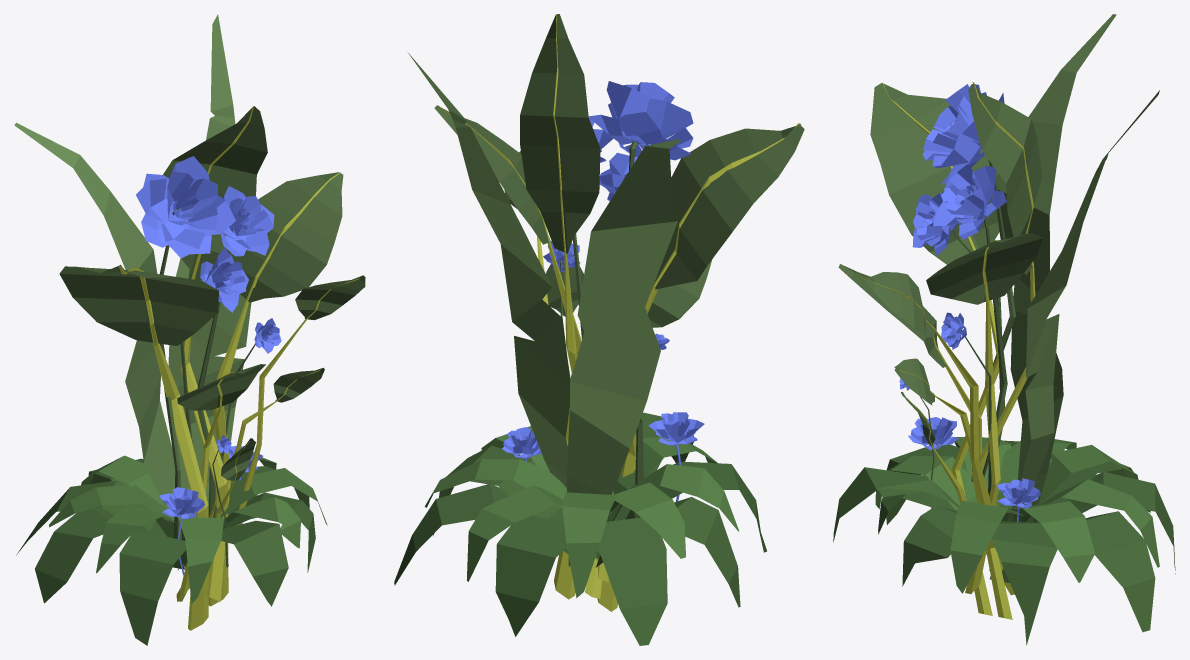
File: MBJ_PlantPack01_Plant01v001.fbx
3 views of the same model, side by side, from view 1: azimuth 30°, elevation 25°; view 2: azimuth 150°, elevation 25°; view 3: azimuth 270°, elevation 25° (orthographic). The views are drawn at different scales.
Parts seen in each view (by area): view 1: Flower01Plant; view 2: Flower01Plant; view 3: Flower01Plant.
Part boxes in pixels (bbox=[...]): Flower01Plant: bbox=[14, 14, 365, 645]; Flower01Plant: bbox=[394, 14, 804, 645]; Flower01Plant: bbox=[833, 14, 1175, 645].
Size of the model in its own units: 84.87 by 150 by 79.83.
